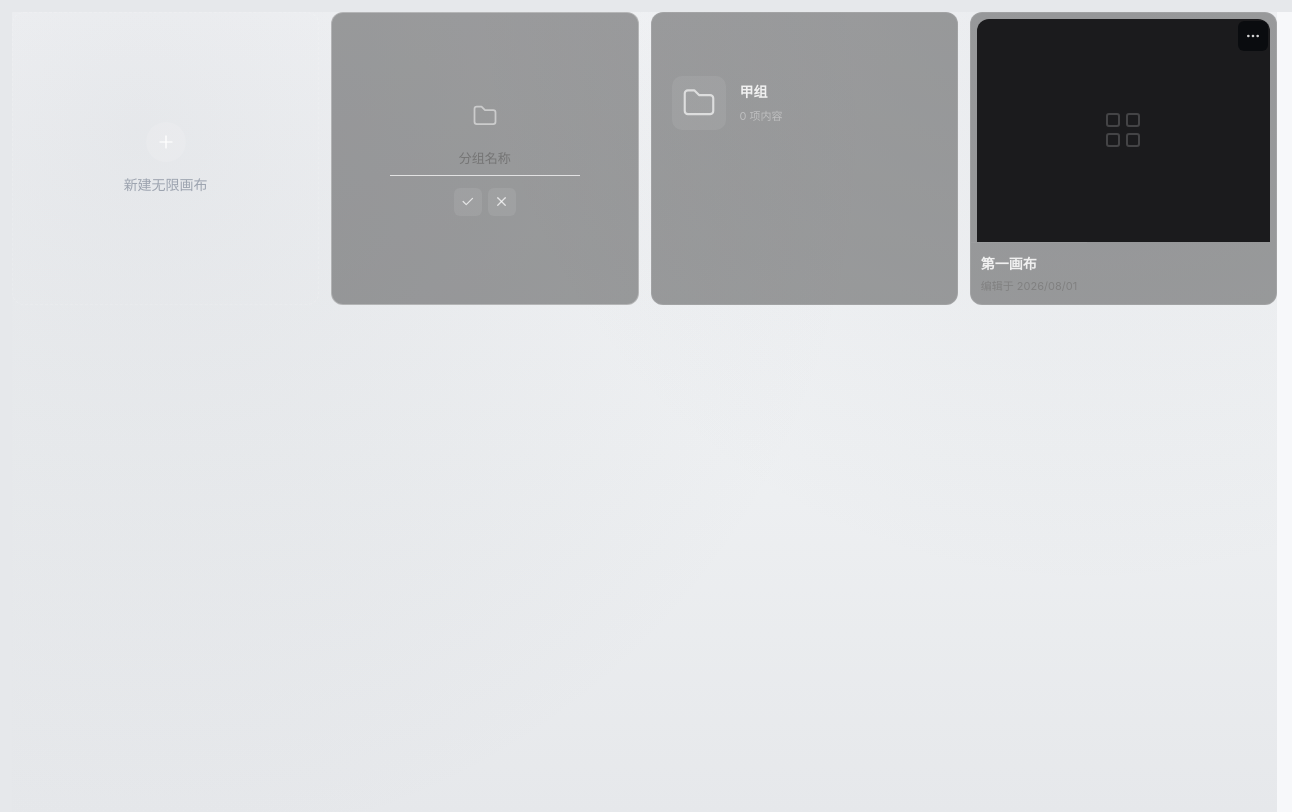
Test case: CanvasHubProjectGrid › shows an explicit validation error for an empty folder name
The image size is (1292, 812).
Click the button named "创建分组" at (468, 202), box [454, 188, 482, 216]
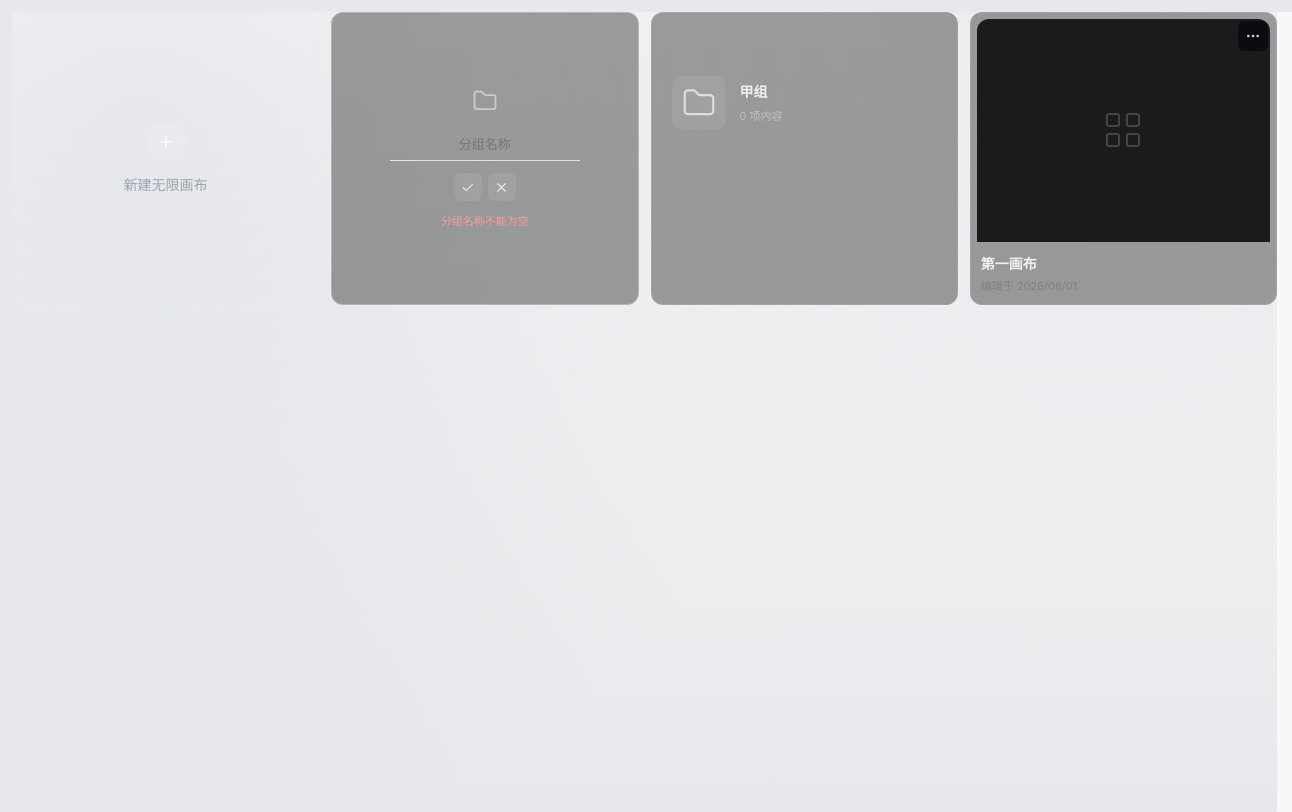
expect the message reads "分组名称不能为空": met, box [441, 214, 529, 228]
